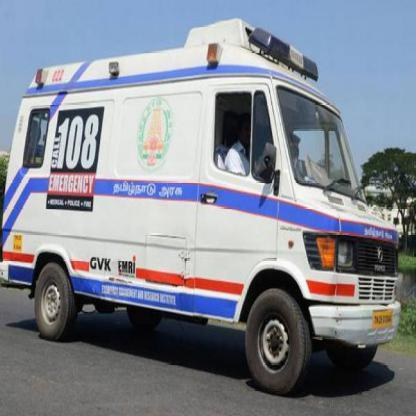Ambulance: (45, 105, 104, 211)
